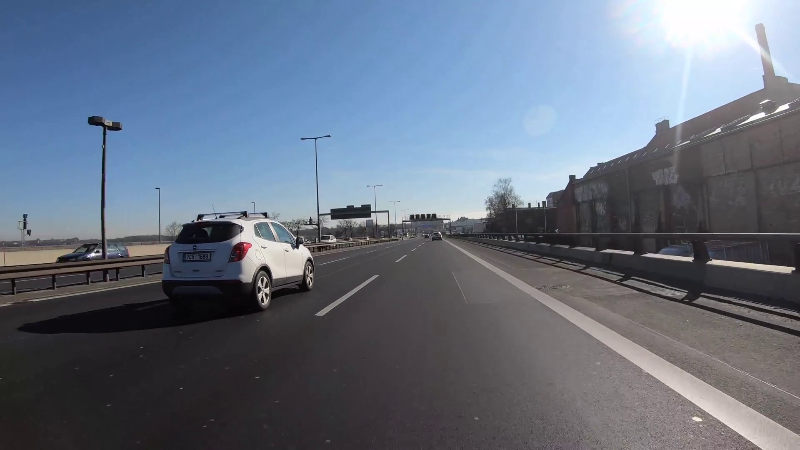Plate: (181, 252, 212, 262)
